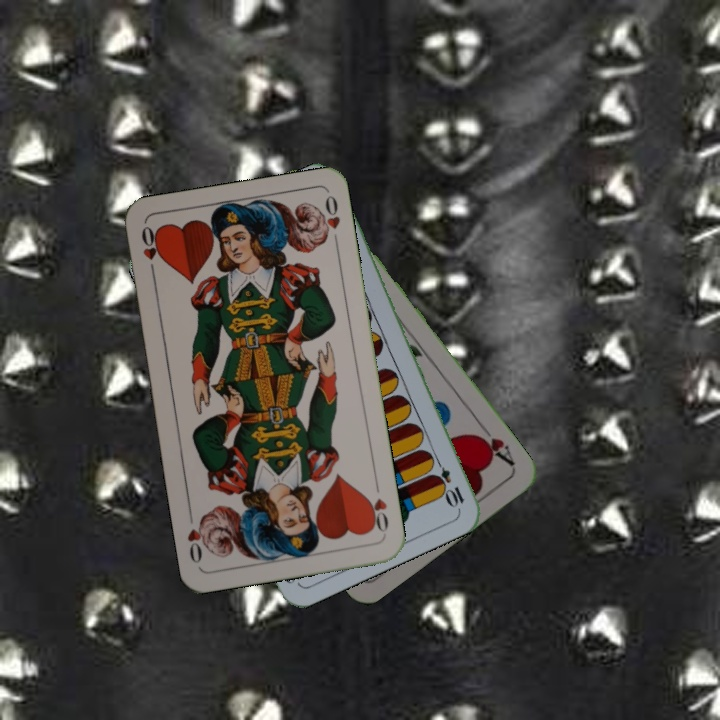E10: (429, 453, 467, 509)
HA: (470, 419, 518, 469)
HO: (363, 478, 391, 537), (137, 222, 163, 281)
